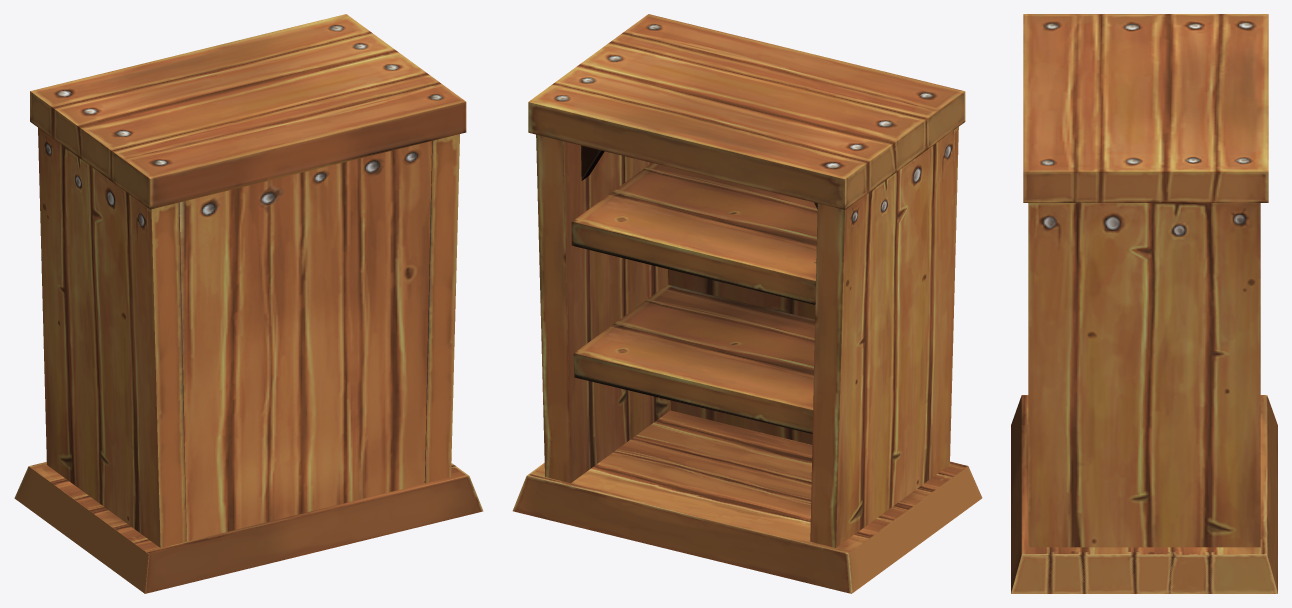
Rendered from cupboardsmall_00.fbx.
3 views of the same model, side by side, from view 1: azimuth 30°, elevation 25°; view 2: azimuth 150°, elevation 25°; view 3: azimuth 270°, elevation 25° (orthographic). The views are drawn at different scales.
Parts seen in each view (by area): view 1: cupboard1:polySurface9; view 2: cupboard1:polySurface9; view 3: cupboard1:polySurface9.
Boxes of the visible parts, x1,y1,x2,y2 form: cupboard1:polySurface9: (14,14,483,593); cupboard1:polySurface9: (512,14,982,593); cupboard1:polySurface9: (1011,14,1277,593).
Size of the model in its own units: 99.93 by 115 by 66.77.
